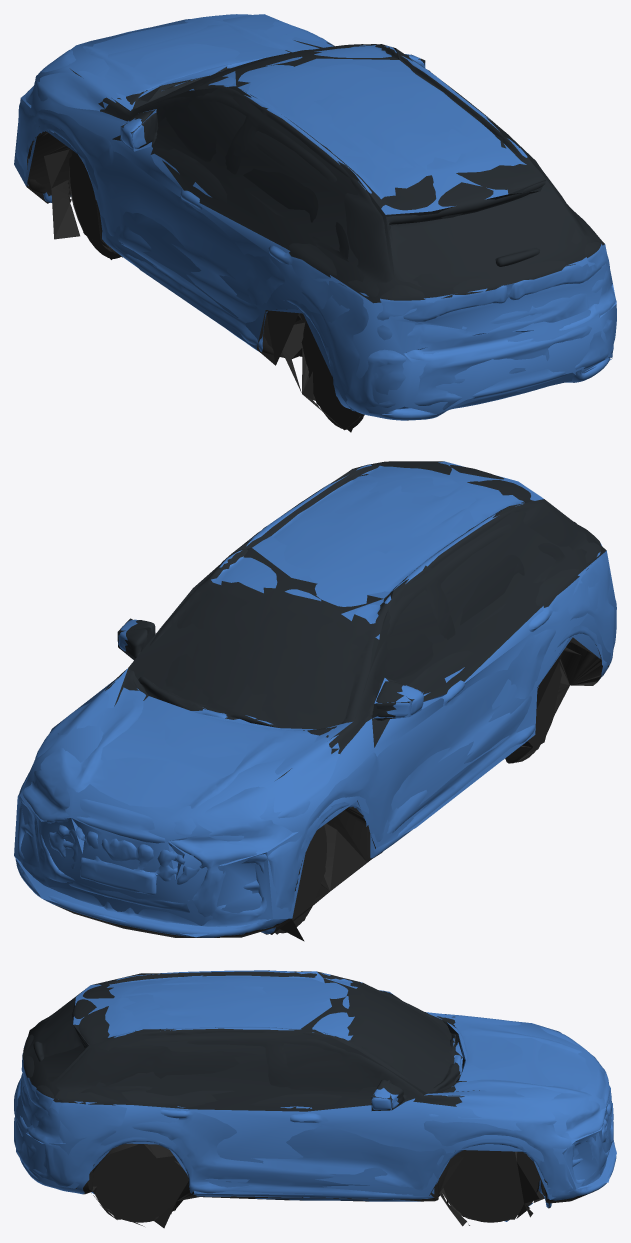
File: audi-sq5.glb
3 renders of one model, top to bottom at view 1: azimuth 30°, elevation 25°; view 2: azimuth 150°, elevation 25°; view 3: azimuth 270°, elevation 25°, orthographic. The views are drawn at different scales.
Parts seen in each view (by area): view 1: body, far; view 2: body, far; view 3: body, far.
Part boxes in pixels (box(x1,y1,x2,y2)): body: box(16, 14, 616, 430); far: box(14, 14, 616, 432); body: box(15, 461, 616, 941); far: box(14, 461, 616, 937); body: box(14, 970, 616, 1228); far: box(15, 971, 616, 1226).
Bounding box in the file's own units: 2.06 × 1.7 × 4.82.
